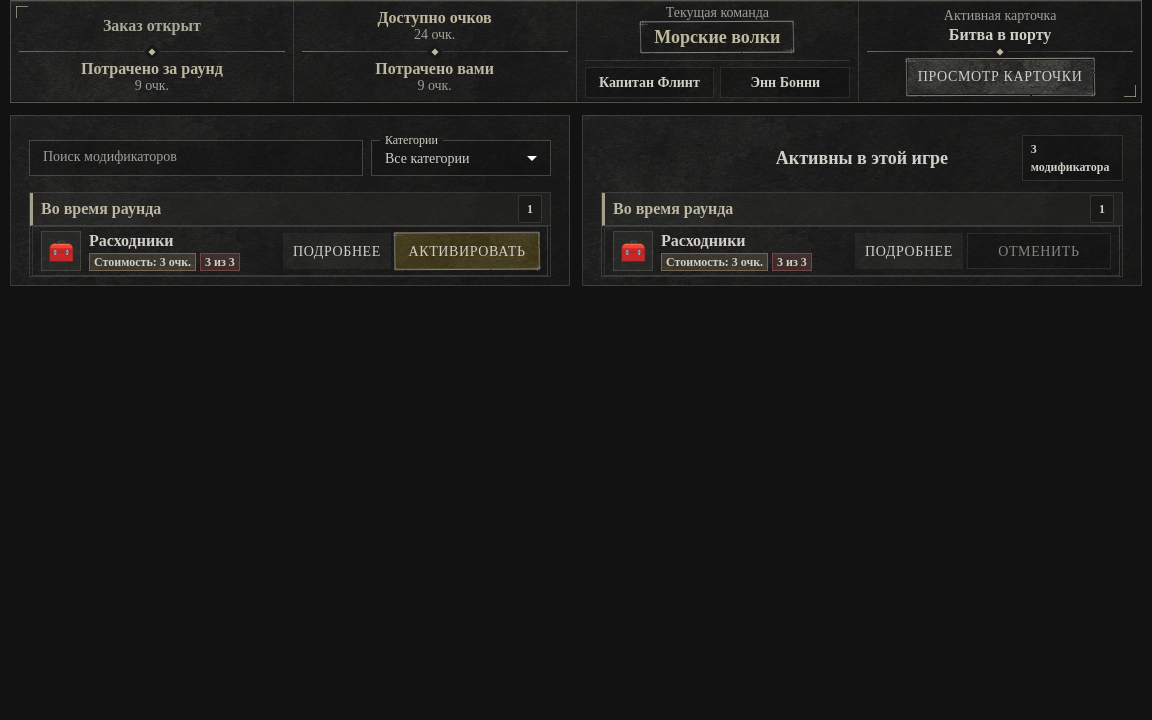
Test case: GameModifiersPage › opens the active card in the shared card preview dialog
Click the button "Просмотр карточки": (1000, 77) [907,59,1094,95]
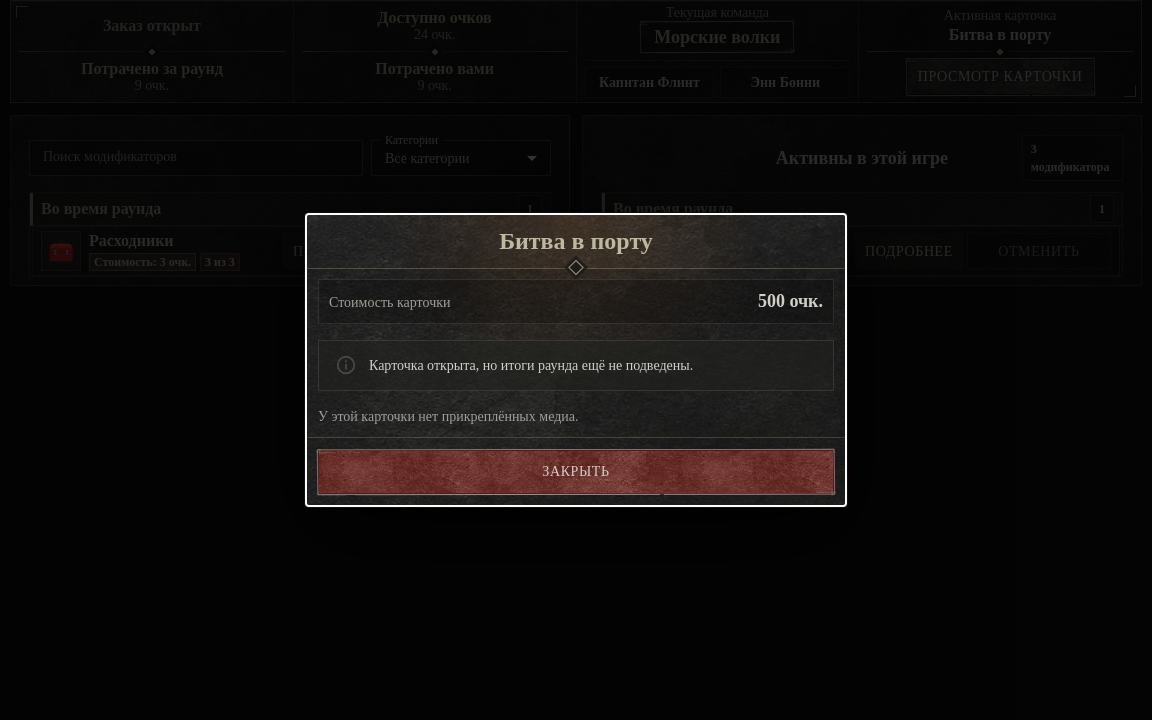
Expected: the dialog "Битва в порту" is shown, [305,213,847,507]
Expected: the text "У этой карточки нет прикреплённых медиа." is shown, [318,409,578,424]
Expected: the text "Карточка открыта, но итоги раунда ещё не подведены." is shown, [369,358,693,373]
